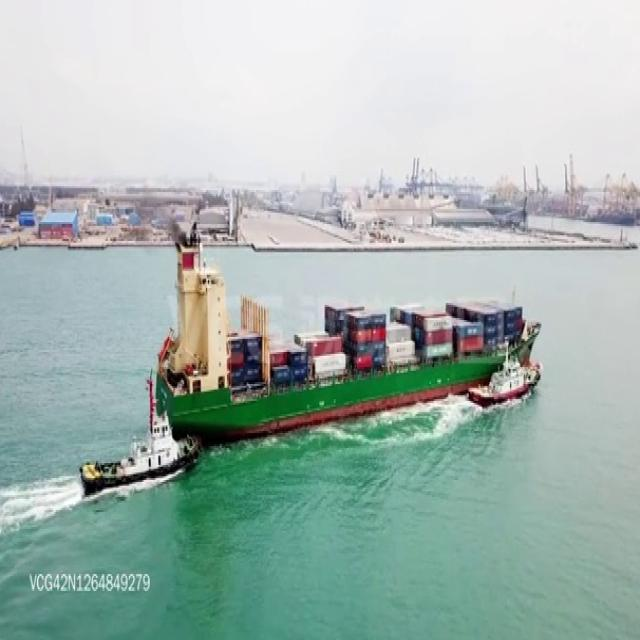cargoship: (148, 230, 536, 421)
houseboat: (76, 403, 197, 496), (468, 346, 542, 411)
